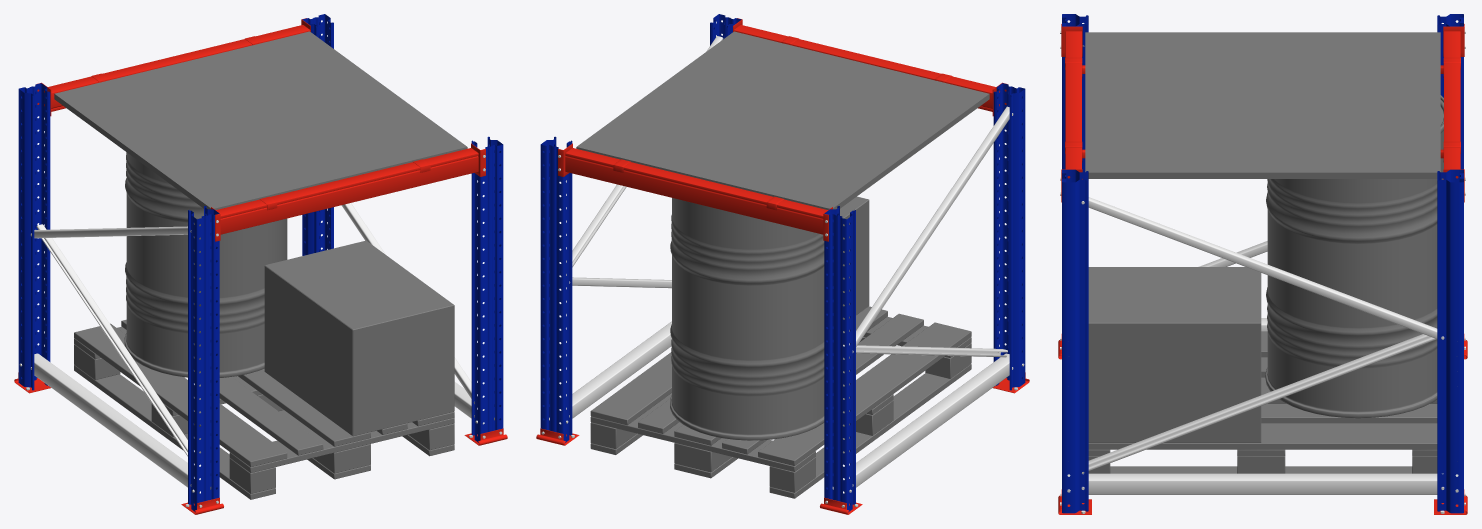
Rendered from SingleStorageRack.FBX.
The picture shows the model from 3 angles, left to right: view 1: azimuth 30°, elevation 25°; view 2: azimuth 150°, elevation 25°; view 3: azimuth 270°, elevation 25°; orthographic projection. The views are drawn at different scales.
Parts seen in each view (by area): view 1: Plywood, Iron_Rack, Box001, Pallet, Barrel, Beam, Crossbar_Diagonal, Crossbar_Horizontal, Thrust_Bearing; view 2: Plywood, Barrel, Iron_Rack, Pallet, Beam, Crossbar_Horizontal, Crossbar_Diagonal, Box001, Thrust_Bearing; view 3: Plywood, Barrel, Box001, Iron_Rack, Pallet, Crossbar_Diagonal, Crossbar_Horizontal, Beam, Support, Thrust_Bearing.
Part boxes in pixels (left/top/right/bottom): Plywood: left=54, top=31, right=467, bottom=209; Iron_Rack: left=18, top=14, right=503, bottom=511; Box001: left=264, top=240, right=454, bottom=436; Pallet: left=74, top=319, right=454, bottom=499; Barrel: left=124, top=152, right=287, bottom=377; Beam: left=36, top=18, right=485, bottom=241; Crossbar_Diagonal: left=30, top=203, right=477, bottom=466; Crossbar_Horizontal: left=19, top=353, right=494, bottom=493; Thrust_Bearing: left=14, top=372, right=507, bottom=514; Plywood: left=576, top=31, right=989, bottom=209; Barrel: left=670, top=198, right=824, bottom=440; Iron_Rack: left=540, top=14, right=1025, bottom=511; Pallet: left=590, top=306, right=971, bottom=498; Beam: left=558, top=18, right=1007, bottom=241; Crossbar_Horizontal: left=549, top=321, right=1024, bottom=493; Crossbar_Diagonal: left=559, top=36, right=1013, bottom=357; Box001: left=840, top=196, right=869, bottom=319; Thrust_Bearing: left=536, top=372, right=1029, bottom=514; Plywood: left=1085, top=32, right=1440, bottom=178; Barrel: left=1265, top=95, right=1443, bottom=418; Box001: left=1088, top=267, right=1261, bottom=442; Iron_Rack: left=1062, top=14, right=1463, bottom=513; Pallet: left=1088, top=331, right=1437, bottom=473; Crossbar_Diagonal: left=1081, top=45, right=1444, bottom=473; Crossbar_Horizontal: left=1067, top=318, right=1458, bottom=494; Beam: left=1060, top=24, right=1465, bottom=202; Support: left=1065, top=57, right=1460, bottom=162; Thrust_Bearing: left=1058, top=334, right=1467, bottom=514.
Bounding box in the file's own units: 1220 × 1102 × 1233.
